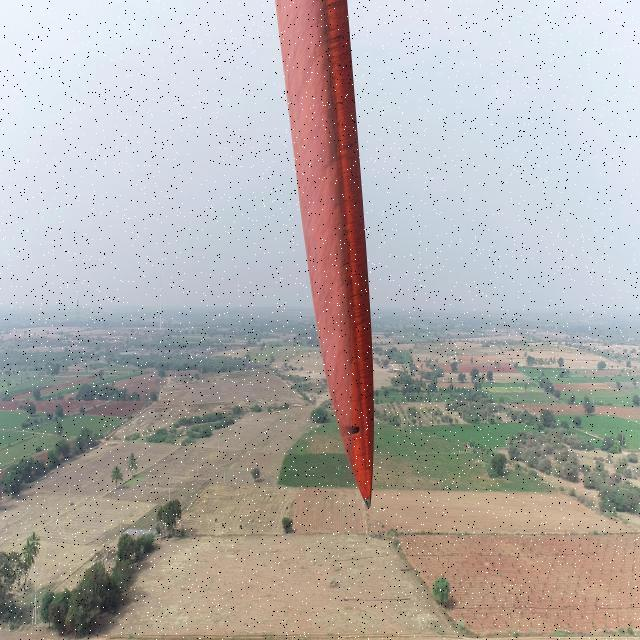Dirt: (271, 0, 378, 506)
Pin Hole: (346, 420, 367, 438)
